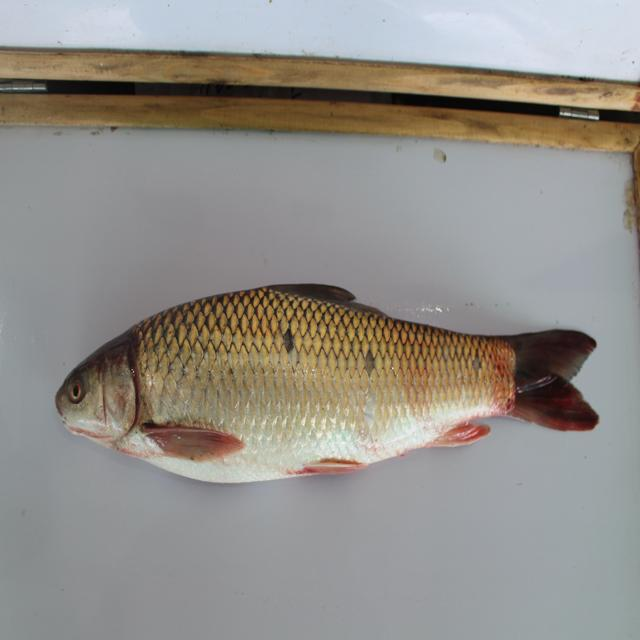Mori: (46, 276, 610, 501)
